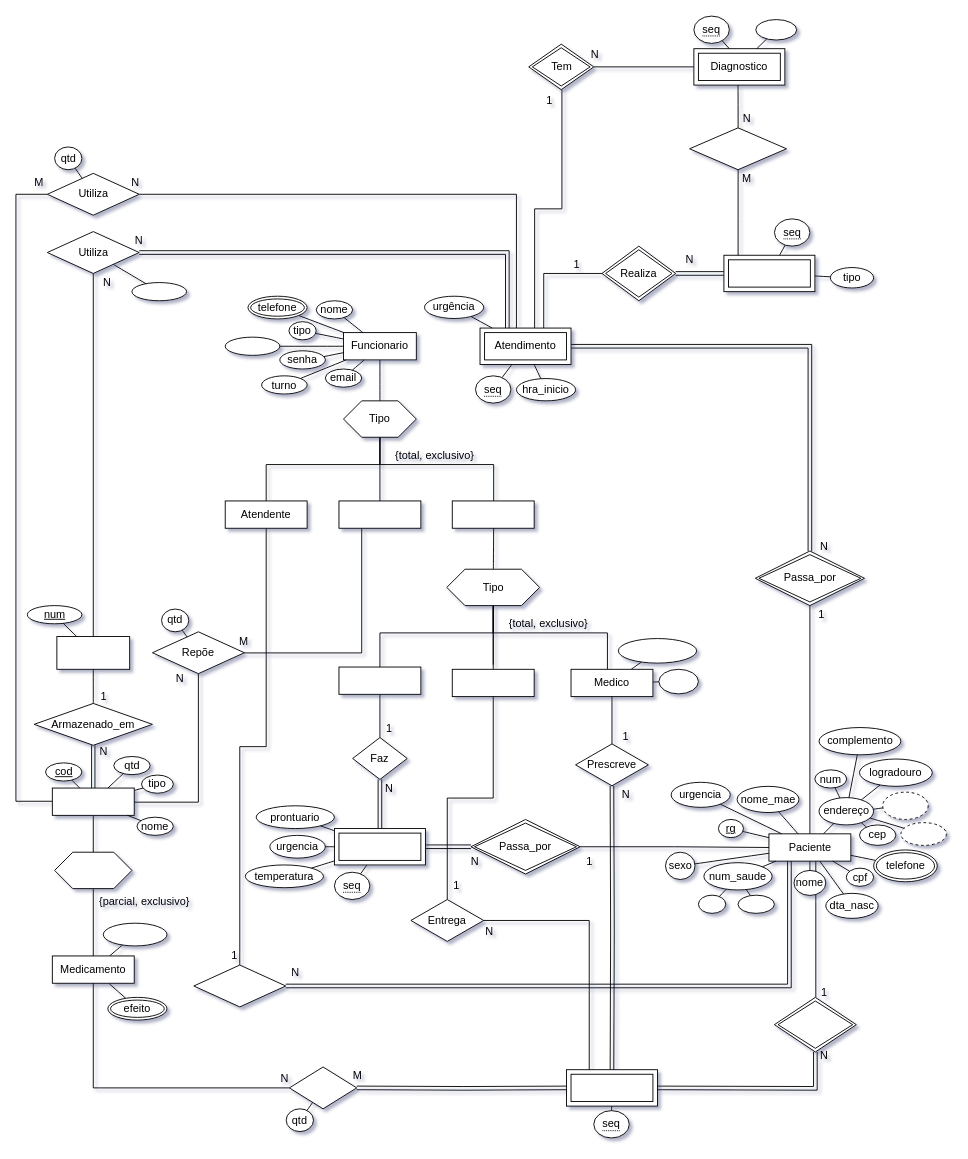
This 968x1159 diagram has some shape labels left out. Each missing label, with the centre of its shape:
Baseado_em: (738,148)
Cadastra: (239,985)
cid: (776,29)
cidade: (905,805)
crm: (678,681)
Enfermeiro: (379,680)
especialidade: (657,650)
estado: (923,833)
Estoquista: (379,514)
Exame: (769,273)
Farmacêutico: (492,682)
horário: (159,291)
hygia: (755,903)
id_func: (252,345)
instruções: (134,934)
Material: (92,801)
Para: (322,1087)
Possui: (815,1024)
Prof_saude: (492,514)
Receita: (611,1087)
Sala: (93,652)
sus: (712,903)
Tipo_material: (93,870)
Triagem: (379,846)
